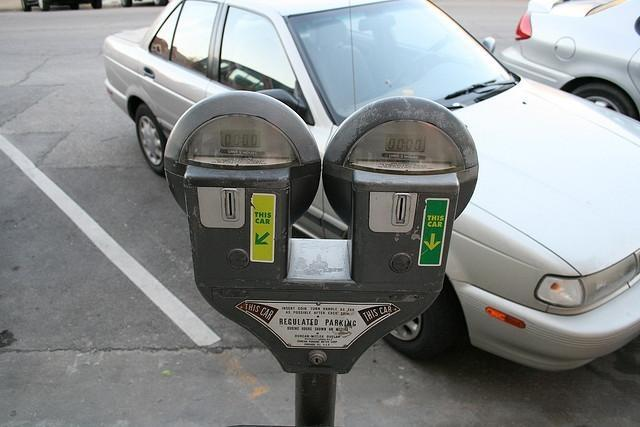car: (100, 0, 640, 376), (494, 3, 638, 119), (21, 0, 102, 12)
